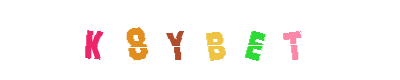8: (110, 0, 190, 80)
B: (170, 0, 250, 80)
E: (201, 0, 281, 80)
K: (53, 0, 133, 80)
T: (214, 0, 294, 80)
Y: (160, 0, 240, 80)
